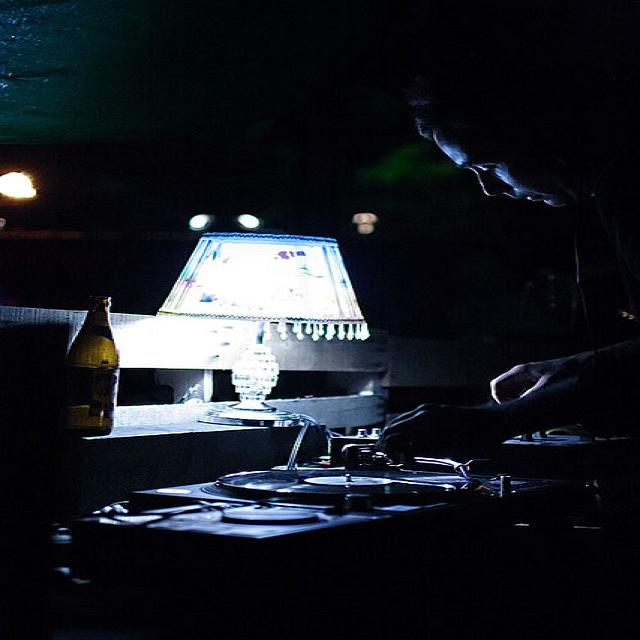Bottle: (47, 264, 140, 448)
Cup: (460, 422, 537, 547), (555, 443, 625, 553), (324, 428, 386, 525)
